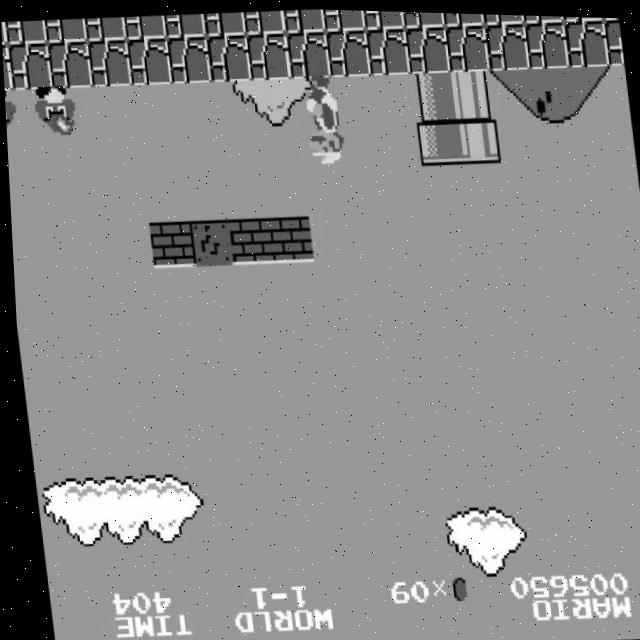1- brick_block: (265, 212, 311, 262), (226, 215, 272, 265), (146, 218, 192, 268)
13- mystery_block: (186, 216, 232, 266)
14- pipe: (449, 66, 495, 116), (409, 68, 455, 118)
15- pipe_head: (454, 112, 500, 162), (414, 114, 460, 164)
17- undestructible_block: (563, 15, 609, 65), (524, 17, 570, 67), (484, 19, 530, 69), (444, 20, 490, 70), (404, 22, 450, 72), (364, 24, 410, 74), (324, 26, 370, 76), (285, 28, 331, 78), (245, 30, 291, 80), (205, 32, 251, 82), (165, 33, 211, 83), (125, 35, 171, 85), (86, 37, 132, 87), (46, 39, 92, 89), (6, 41, 52, 91), (242, 7, 286, 34), (202, 9, 246, 36), (163, 11, 207, 38), (123, 13, 167, 40), (83, 15, 127, 42), (43, 16, 87, 43), (3, 19, 47, 46), (282, 7, 326, 33), (322, 7, 366, 30), (604, 15, 623, 62), (362, 8, 406, 28), (401, 9, 445, 26), (441, 10, 485, 24), (2, 44, 13, 92), (481, 11, 524, 23), (521, 12, 564, 21), (1, 22, 8, 46)
4- fire_mario: (298, 70, 351, 169)
5- fireball: (51, 110, 75, 138)
8- goomba: (31, 83, 79, 136), (4, 86, 20, 137)
